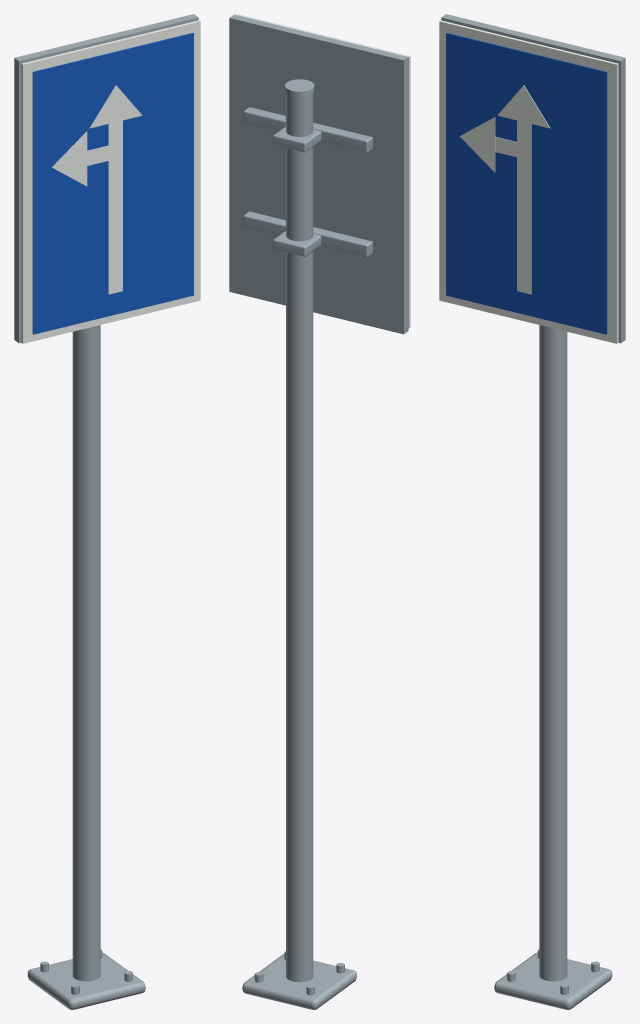
The model's file is DS_Sign_LaneDir1_LS.fbx.
3 renders of one model, left to right at view 1: azimuth 30°, elevation 25°; view 2: azimuth 150°, elevation 25°; view 3: azimuth 330°, elevation 25°, orthographic. The views are drawn at different scales.
Parts seen in each view (by area): view 1: Face_Field.022, Post.029, Face_Border.022, Plate_Back.037, BasePlate.029, LaneStem0.004, ArrowHead.008, ArrowHead.007, LaneStraight0.002, LaneLeft1.003; view 2: Plate_Back.037, Post.029, BasePlate.029, RearRail.062, RearRail.061, Face_Border.022, PostClamp.058, PostClamp.057, PostCap.029; view 3: Face_Field.022, Post.029, Face_Border.022, Plate_Back.037, BasePlate.029, LaneStem0.004, ArrowHead.008, ArrowHead.007, LaneStraight0.002, LaneLeft1.003.
Boxes of the visible parts, left/top/right/bottom form: Face_Field.022: left=32, top=33, right=193, bottom=334; Post.029: left=72, top=325, right=100, bottom=981; Face_Border.022: left=21, top=20, right=200, bottom=343; Plate_Back.037: left=14, top=14, right=198, bottom=343; BasePlate.029: left=27, top=952, right=145, bottom=1009; LaneStem0.004: left=108, top=176, right=122, bottom=294; ArrowHead.008: left=52, top=131, right=87, bottom=186; ArrowHead.007: left=89, top=85, right=142, bottom=128; LaneStraight0.002: left=108, top=120, right=122, bottom=179; LaneLeft1.003: left=87, top=144, right=115, bottom=165; Plate_Back.037: left=229, top=14, right=408, bottom=334; Post.029: left=286, top=93, right=313, bottom=982; BasePlate.029: left=242, top=954, right=356, bottom=1009; RearRail.062: left=243, top=107, right=372, bottom=153; RearRail.061: left=243, top=211, right=372, bottom=257; Face_Border.022: left=237, top=14, right=410, bottom=327; PostClamp.058: left=273, top=126, right=321, bottom=152; PostClamp.057: left=273, top=231, right=321, bottom=256; PostCap.029: left=285, top=79, right=314, bottom=96; Face_Field.022: left=446, top=33, right=607, bottom=334; Post.029: left=539, top=325, right=567, bottom=981; Face_Border.022: left=439, top=20, right=618, bottom=343; Plate_Back.037: left=441, top=14, right=625, bottom=343; BasePlate.029: left=494, top=952, right=612, bottom=1009; LaneStem0.004: left=517, top=176, right=531, bottom=294; ArrowHead.008: left=459, top=117, right=495, bottom=172; ArrowHead.007: left=497, top=85, right=550, bottom=128; LaneStraight0.002: left=517, top=120, right=531, bottom=179; LaneLeft1.003: left=495, top=136, right=524, bottom=158.
Bounding box in the file's own units: 56 × 287 × 28.
